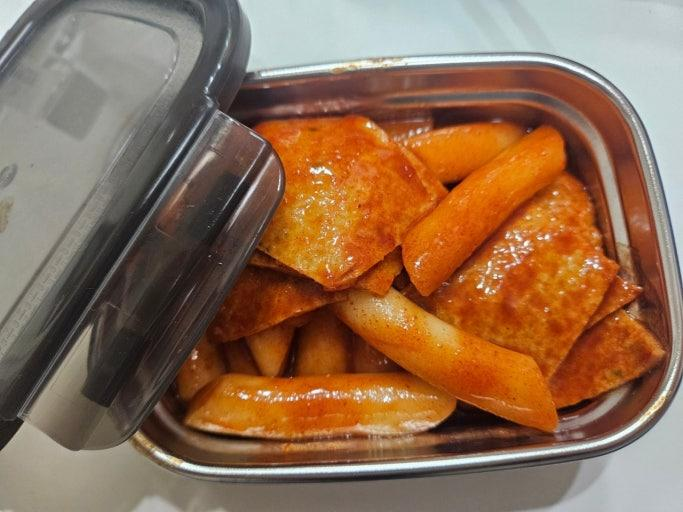Lunch Box: (0, 0, 682, 480)
